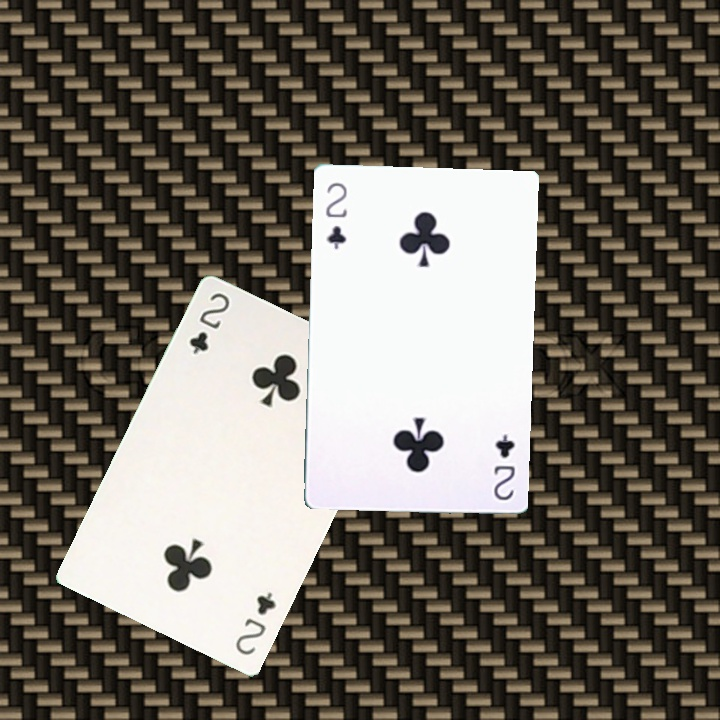2c: (231, 588, 279, 658), (185, 288, 233, 357), (322, 178, 350, 252), (489, 429, 517, 503)
